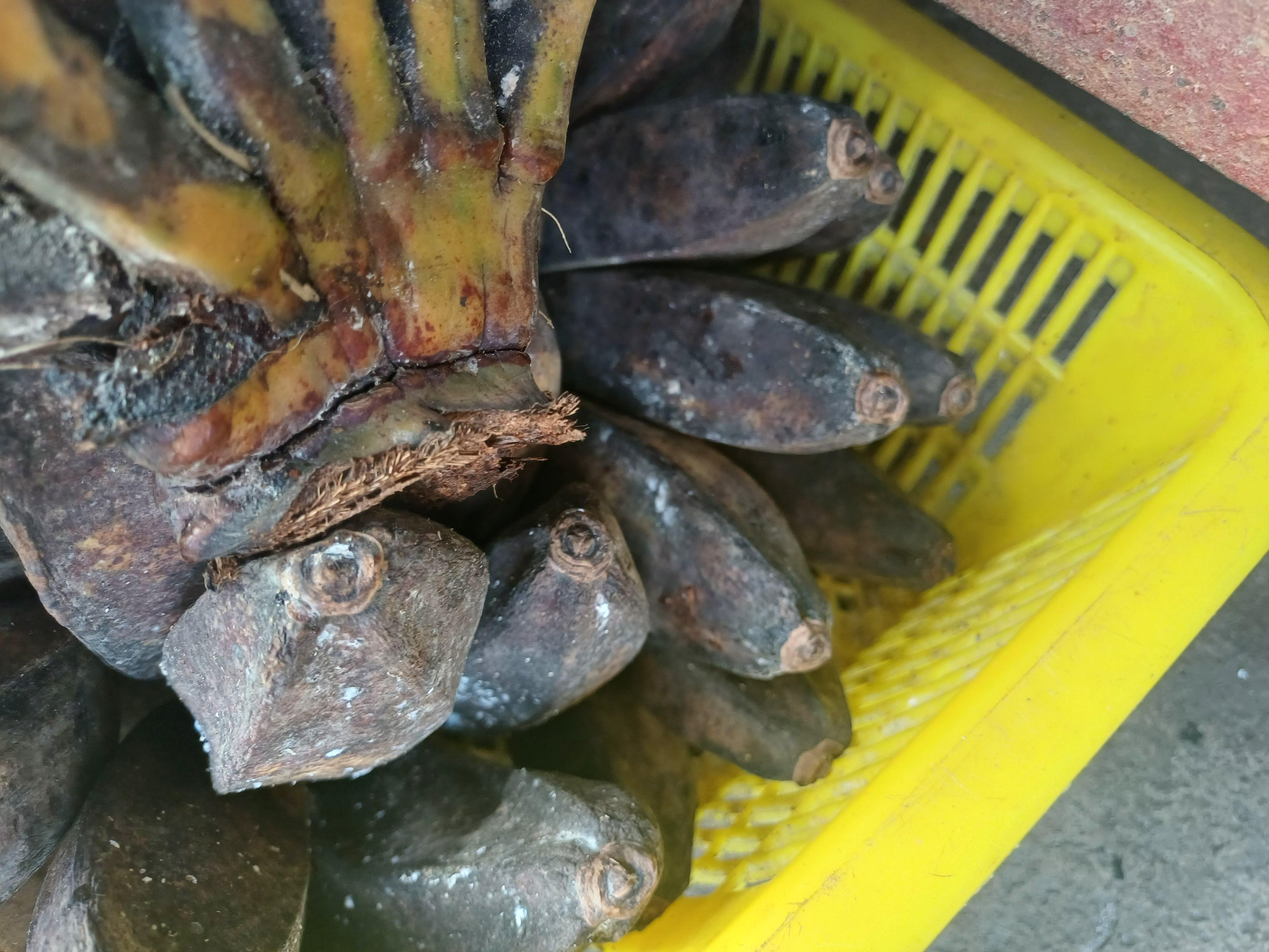overripe: (536, 0, 976, 787), (0, 533, 660, 952), (0, 374, 649, 792)
